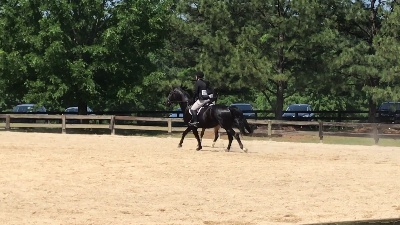jetta: (161, 82, 258, 158)
